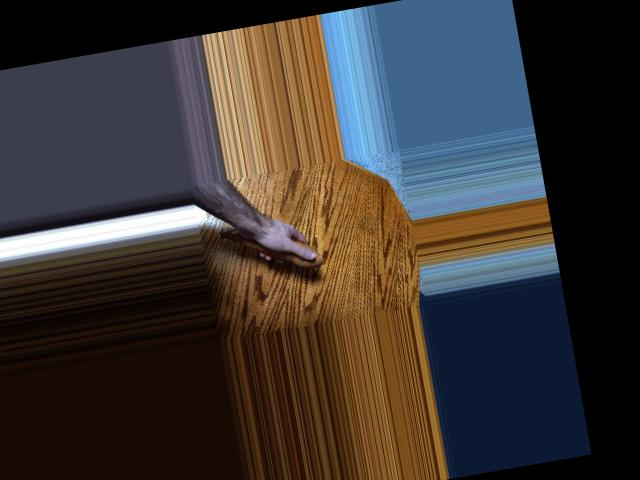sweet_potato: (216, 210, 319, 280)
